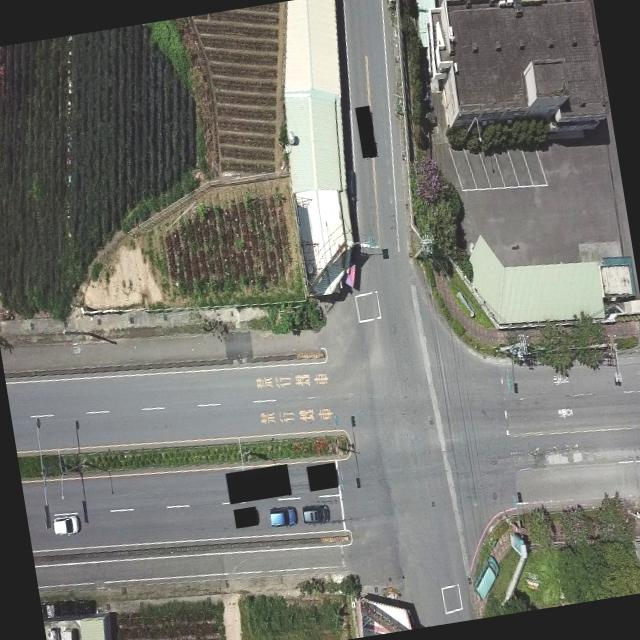car: (468, 549, 500, 608), (47, 504, 85, 542), (268, 503, 299, 529), (302, 501, 332, 527)
